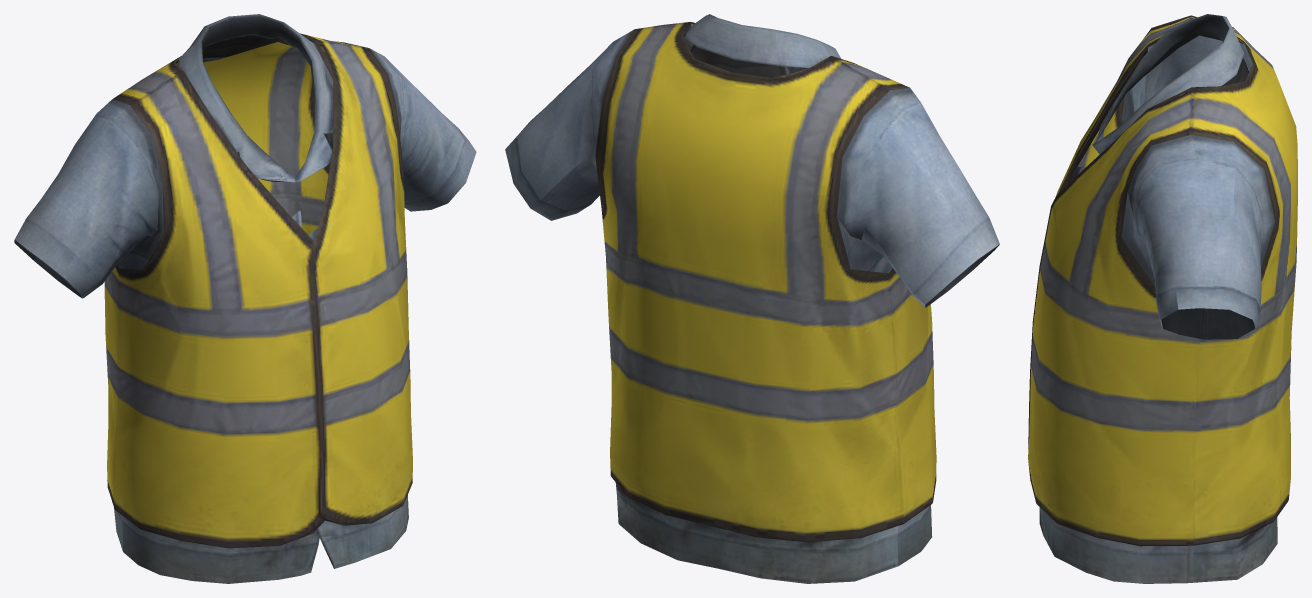
Rendered from suit.fbx.
3 renders of one model, left to right at view 1: azimuth 30°, elevation 25°; view 2: azimuth 150°, elevation 25°; view 3: azimuth 270°, elevation 25°, orthographic. The views are drawn at different scales.
Parts seen in each view (by area): view 1: Object_5; view 2: Object_5; view 3: Object_5.
Boxes of the visible parts, x1,y1,x2,y2 form: Object_5: (14,14,476,583); Object_5: (505,14,999,583); Object_5: (1028,14,1297,583).
Size of the model in its own units: 64.72 by 68.58 by 33.68.
Materials: 1 (1 with a texture image).
